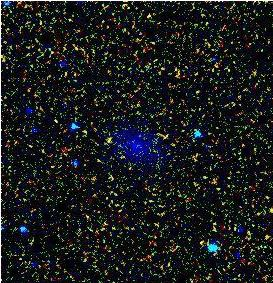star: (93, 124, 123, 154)
